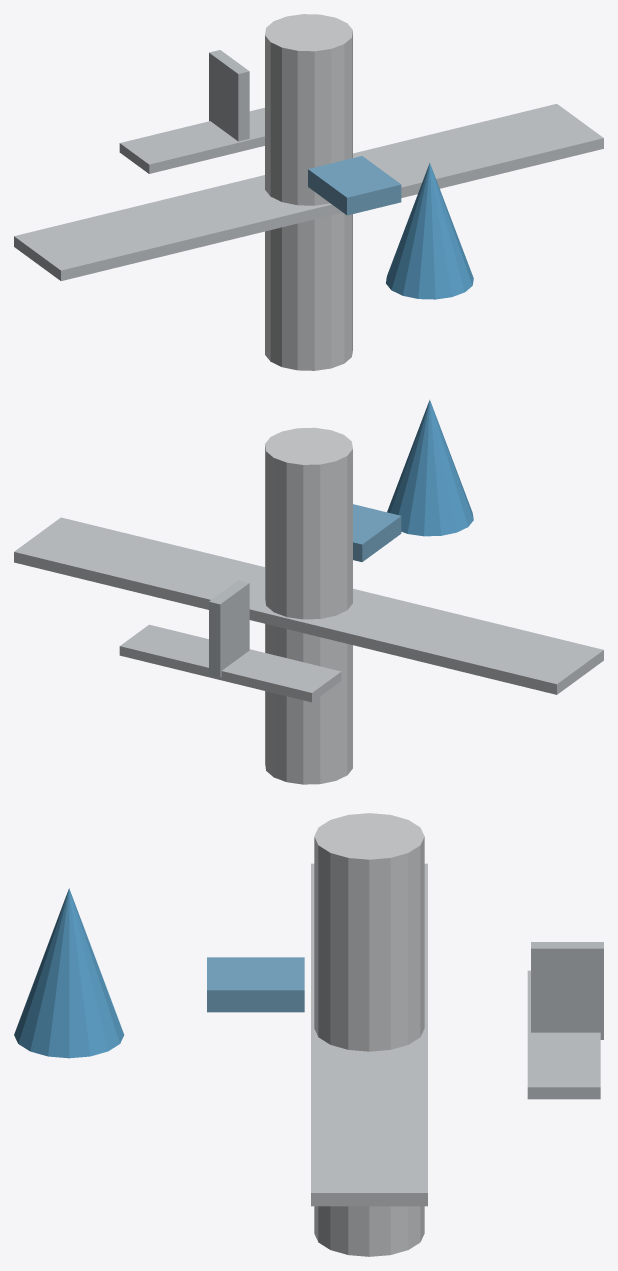
File: aircraft.glb
3 views of the same model, one above another, from view 1: azimuth 30°, elevation 25°; view 2: azimuth 150°, elevation 25°; view 3: azimuth 270°, elevation 25° (orthographic). The views are drawn at different scales.
Visible parts, largest first — view 1: world; view 2: world; view 3: world.
Part boxes in pixels (x1,y1,x2,y2): world: (14,14,603,370); world: (14,399,603,784); world: (14,813,603,1256).
Size of the model in its own units: 4.8 by 2.7 by 3.64.
